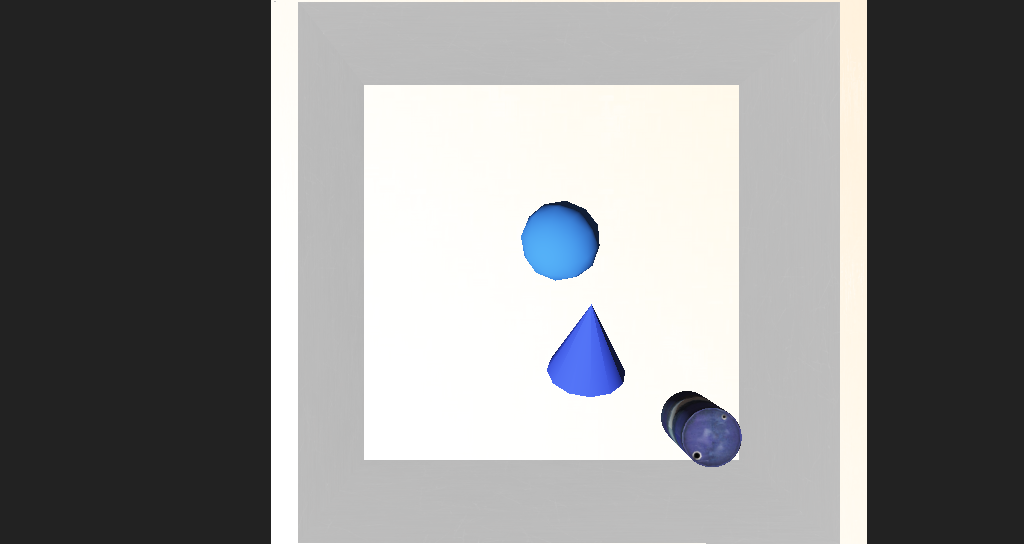cone: (596, 336, 657, 379)
cylinder: (509, 272, 569, 339)
sphere: (478, 231, 546, 274)
